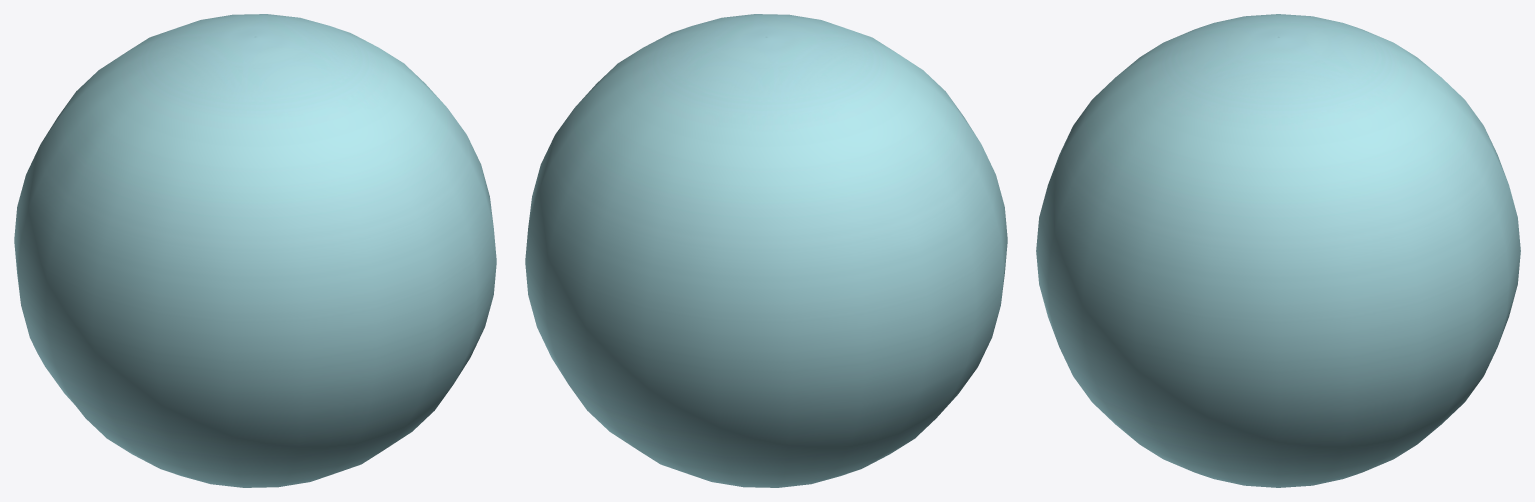
The model's file is Uranus.fbx.
3 views of the same model, side by side, from view 1: azimuth 30°, elevation 25°; view 2: azimuth 150°, elevation 25°; view 3: azimuth 270°, elevation 25° (orthographic).
Visible parts, largest first — view 1: Uranus; view 2: Uranus; view 3: Uranus.
Boxes of the visible parts, x1,y1,x2,y2 form: Uranus: [14, 14, 496, 487]; Uranus: [525, 14, 1007, 487]; Uranus: [1036, 14, 1520, 487].
Bounding box in the file's own units: 102 × 98.94 × 102.
Materials: 1 (1 with a texture image).
